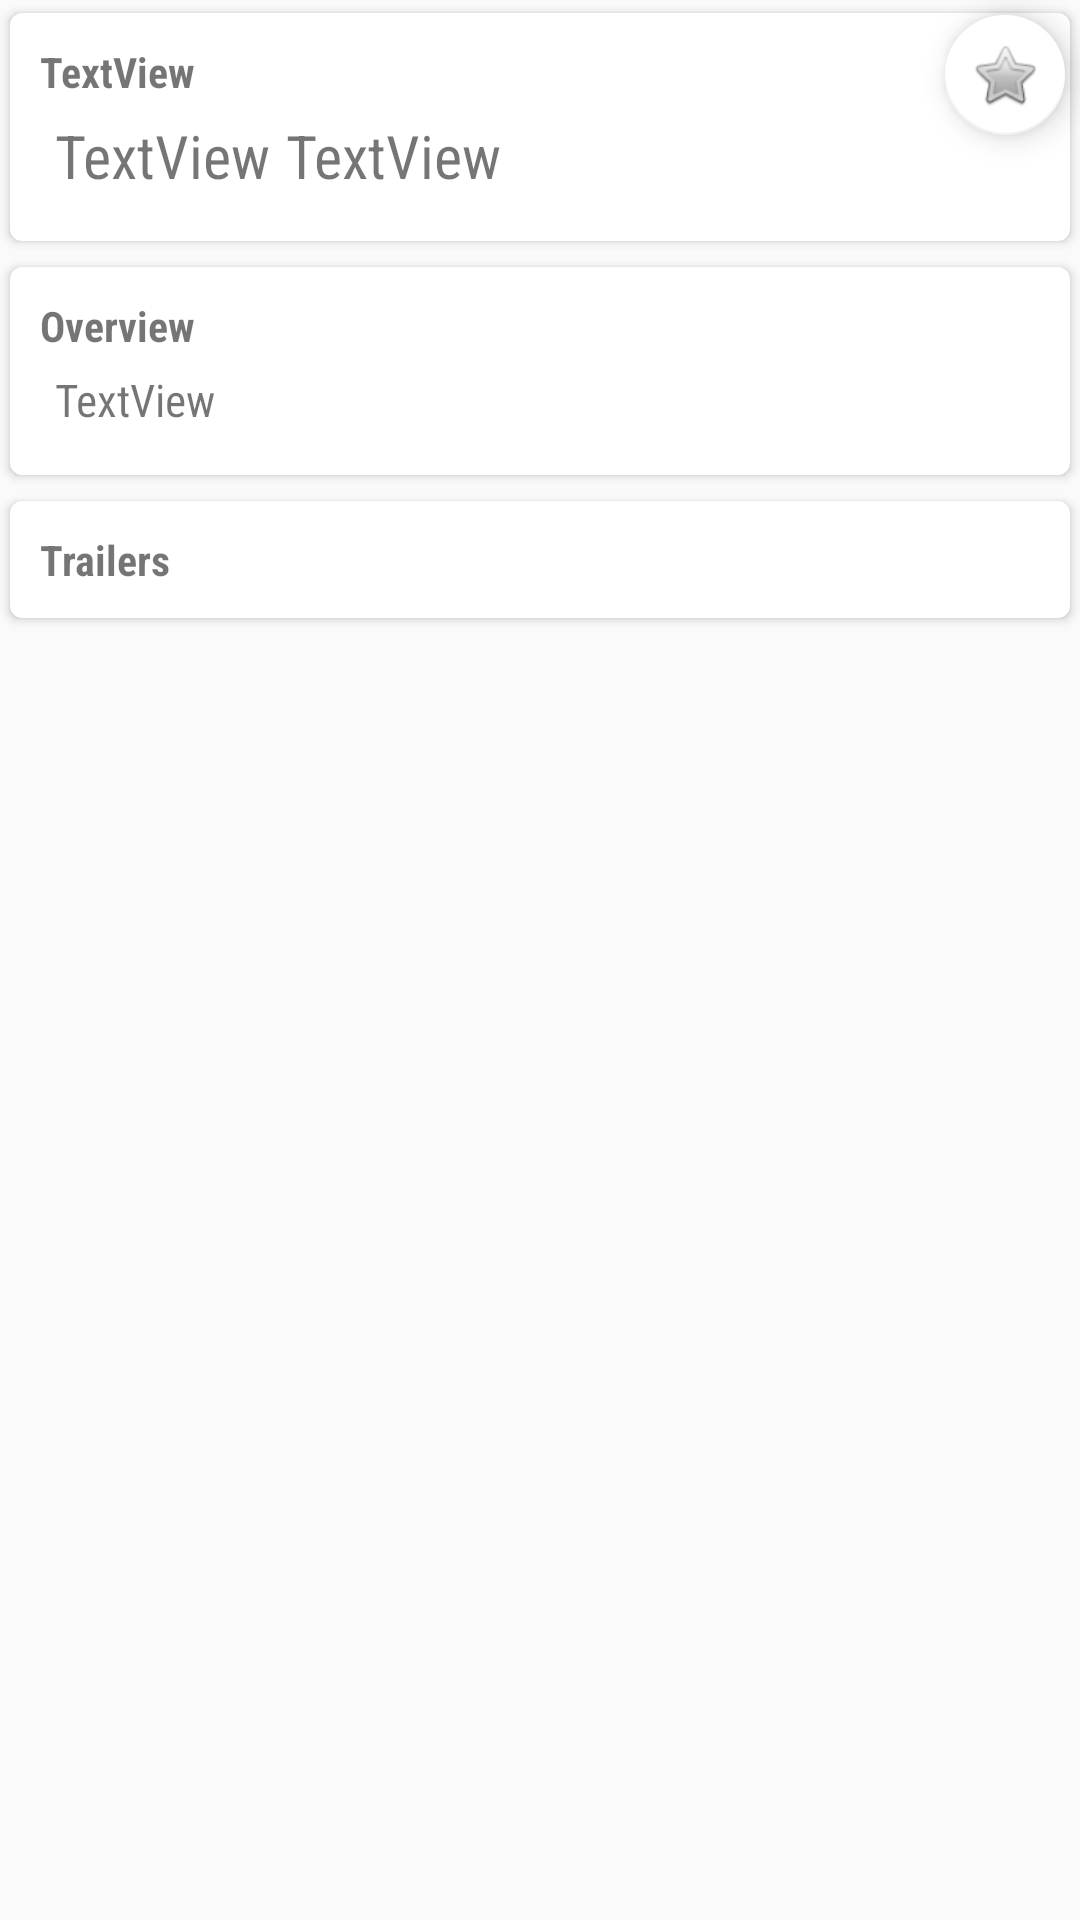

Named icons in this screenshot (1080×1920) and their centers, (x=x, y=y):
star off: (x=1020, y=79)
